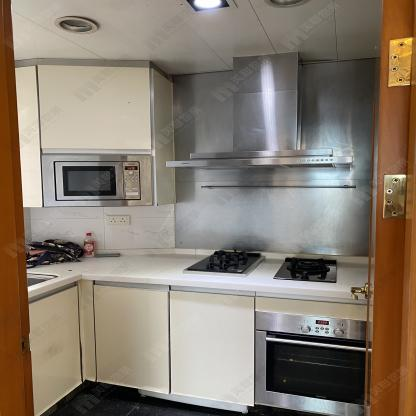Cupboard: (30, 278, 262, 413), (37, 64, 151, 152)
Exhaust Hood: (166, 51, 357, 170)
Microwave: (40, 155, 153, 207)
Oven: (259, 310, 369, 416)
Sink: (26, 270, 61, 291)
Stove: (272, 254, 341, 283), (185, 250, 265, 275)
